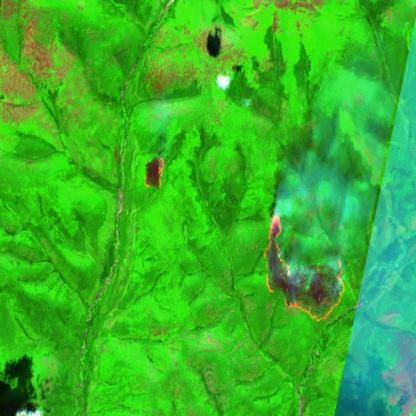fire: (258, 212, 347, 324), (142, 154, 167, 193)
